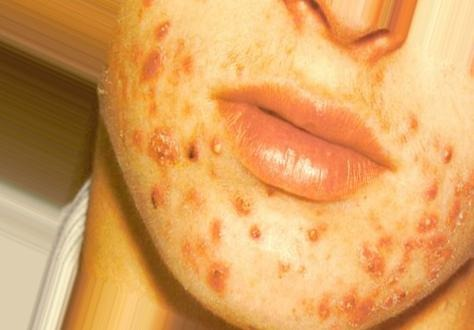Acne: (105, 5, 462, 319)
